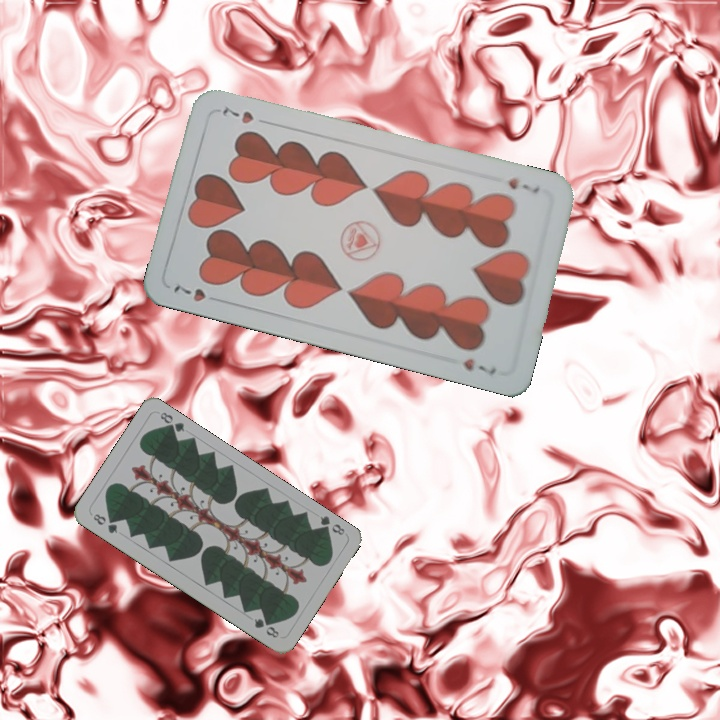G8: (315, 511, 347, 538), (89, 509, 120, 536)
H7: (169, 280, 209, 305), (503, 173, 542, 196)
